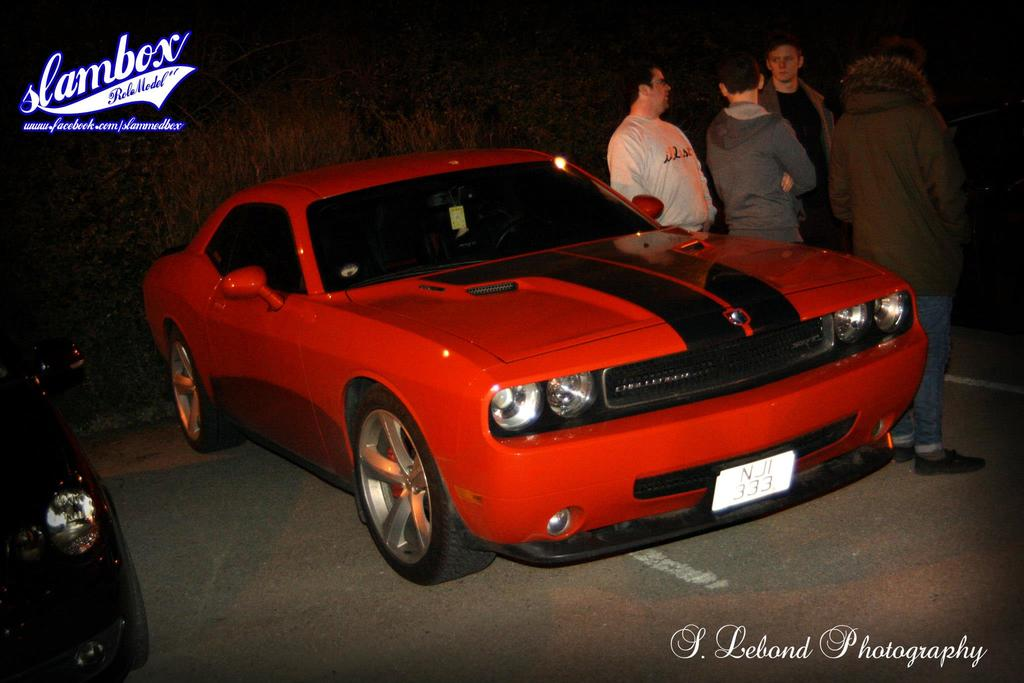Person: (605, 41, 987, 474)
